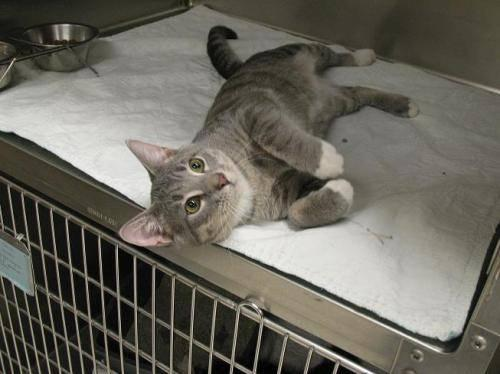cat: (121, 25, 416, 246)
